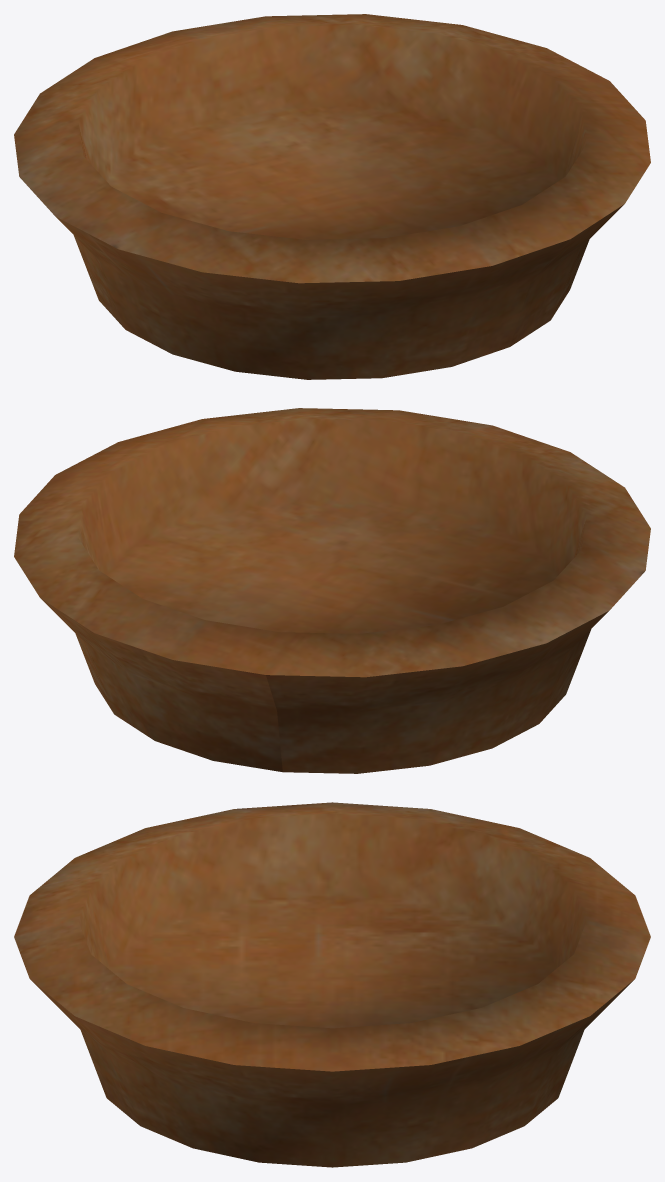
The model's file is PotA.fbx.
The picture shows the model from 3 angles, top to bottom: view 1: azimuth 30°, elevation 25°; view 2: azimuth 150°, elevation 25°; view 3: azimuth 270°, elevation 25°; orthographic projection.
Parts seen in each view (by area): view 1: Plate; view 2: Plate; view 3: Plate.
Part boxes in pixels (x1=…): Plate: x1=14, y1=14, x2=650, y2=379; Plate: x1=14, y1=408, x2=650, y2=773; Plate: x1=14, y1=802, x2=650, y2=1167.
Size of the model in its own units: 13.93 by 3.53 by 13.93.
